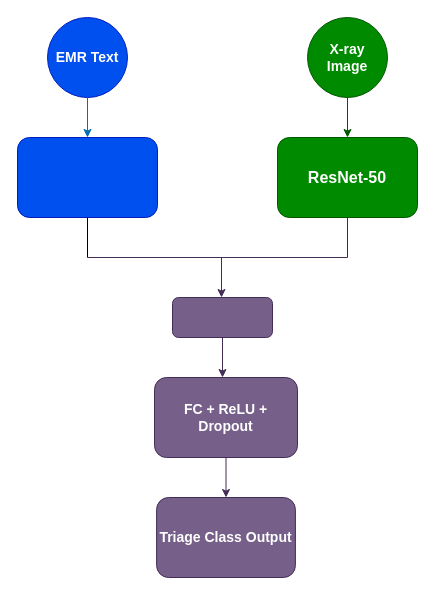
Image size: 435x595. Some labels were removed from this diagram. Each missing label, with the centre of its shape:
"Bio_ClinicalBERT" goes at (x=87, y=177).
"Concatenate" goes at (x=222, y=317).
